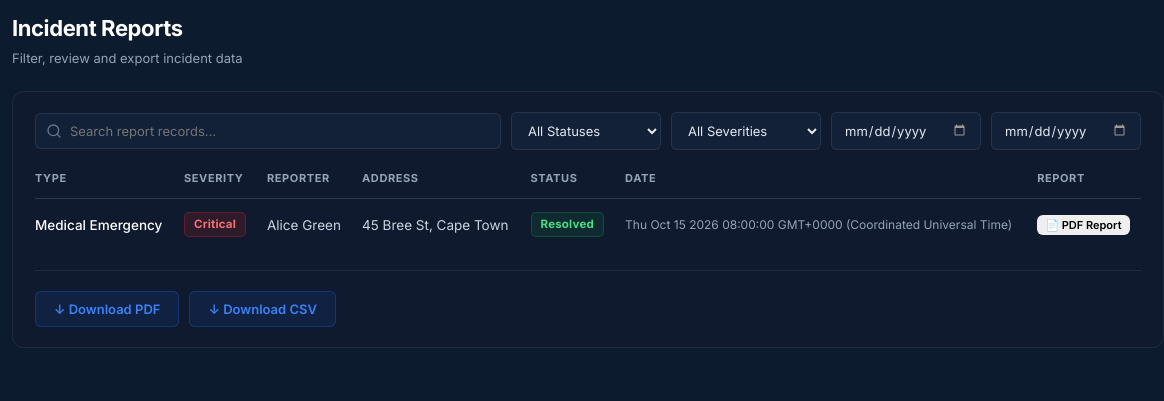
Test: Incident Report PDF Export UI Integration › Dispatcher ReportsTab Individual Incident PDF Export › displays error notice in ReportsTab if row export fails
The width and height of the screenshot is (1164, 401).
Click the button "📄 PDF Report" at (1083, 225), box [1037,215,1130,235]
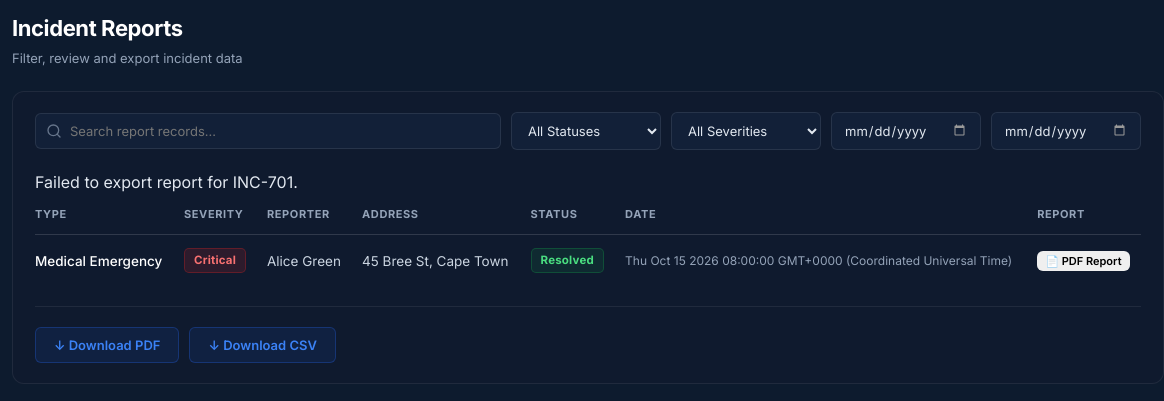
Expected: the text "Failed to export report for INC-701." is shown, [35,172,298,192]
